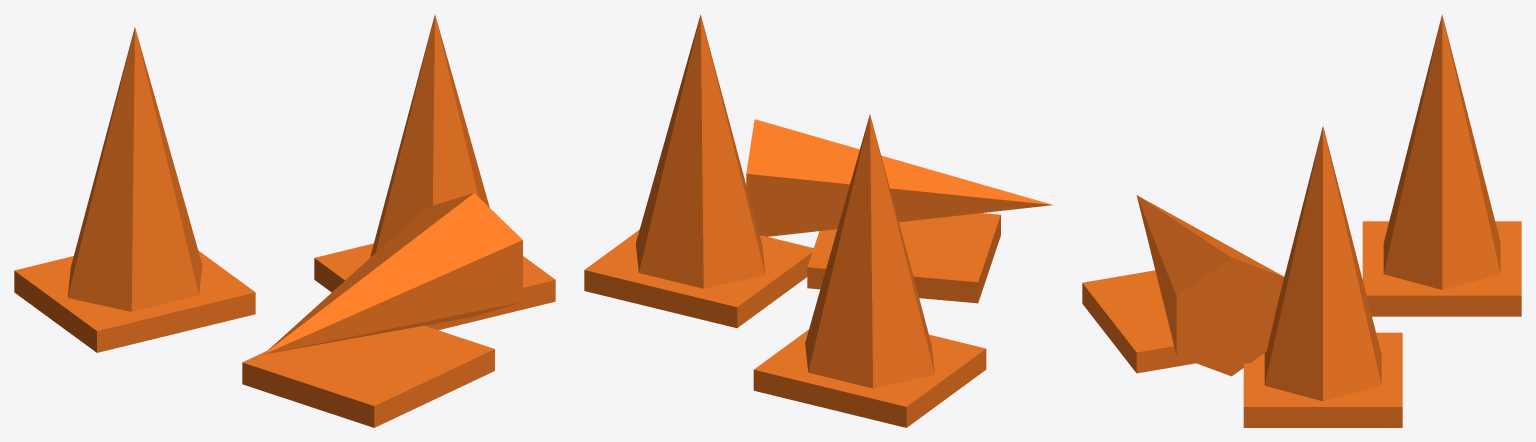
The model's file is env_r7_cone_group.glb.
The picture shows the model from 3 angles, left to right: view 1: azimuth 30°, elevation 25°; view 2: azimuth 150°, elevation 25°; view 3: azimuth 270°, elevation 25°; orthographic projection. The views are drawn at different scales.
Visible parts, largest first — view 1: env_r7_cone_group; view 2: env_r7_cone_group; view 3: env_r7_cone_group.
Part boxes in pixels (x1,y1,x2,y2): env_r7_cone_group: (14, 14, 555, 427); env_r7_cone_group: (584, 14, 1052, 427); env_r7_cone_group: (1082, 14, 1521, 427).
Size of the model in its own units: 1.2 by 0.8 by 1.2.
1 material, 1 textured.
